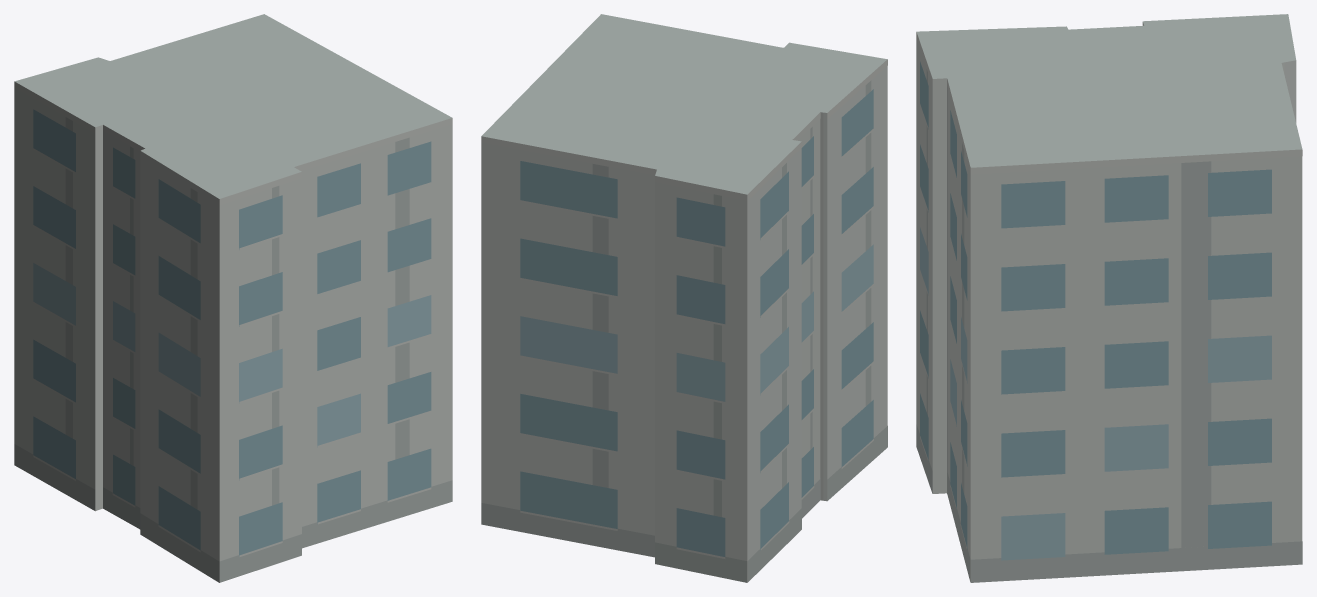
The model's file is survey-upis-32883239.glb.
3 renders of one model, left to right at view 1: azimuth 30°, elevation 25°; view 2: azimuth 150°, elevation 25°; view 3: azimuth 270°, elevation 25°, orthographic. The views are drawn at different scales.
Visible parts, largest first — view 1: survey-upis-32883239.tmp; view 2: survey-upis-32883239.tmp; view 3: survey-upis-32883239.tmp.
Part boxes in pixels (x1=…): survey-upis-32883239.tmp: x1=14, y1=14, x2=452, y2=582; survey-upis-32883239.tmp: x1=481, y1=14, x2=887, y2=582; survey-upis-32883239.tmp: x1=916, y1=14, x2=1302, y2=582.
Size of the model in its own units: 11.69 by 14.7 by 12.4.
